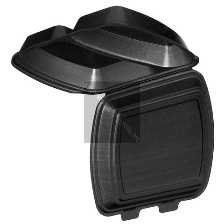foam_box: (6, 0, 221, 224)
